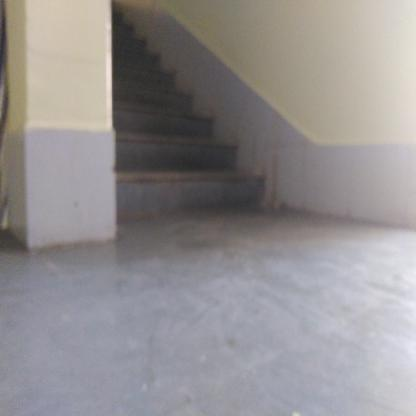stairs: (120, 69, 178, 223)
